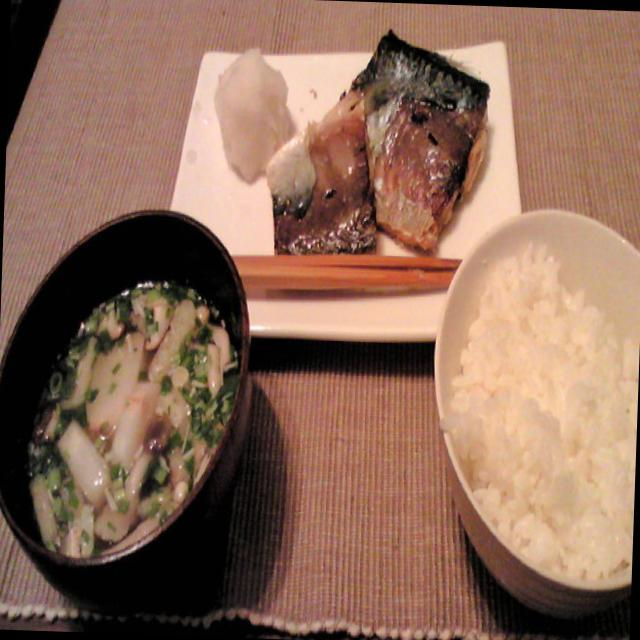Rice: (435, 236, 640, 576)
